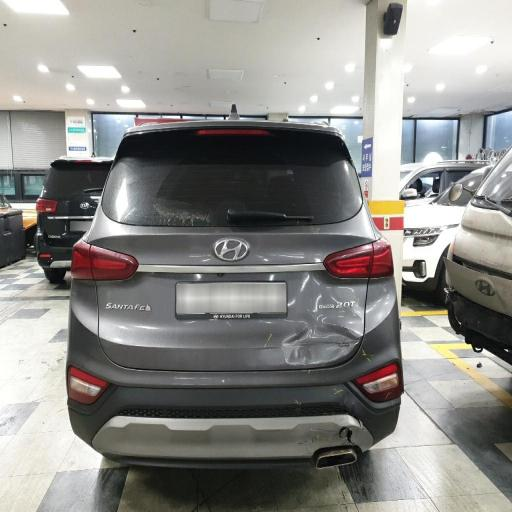dent: (271, 246, 393, 378)
scratch: (136, 158, 327, 242)
